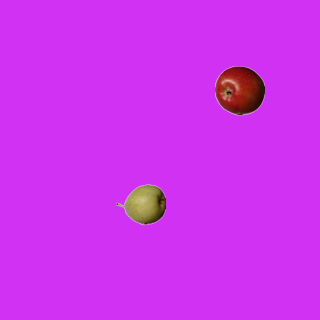Apple Braeburn: (214, 65, 264, 115)
Pear: (115, 179, 165, 229)
